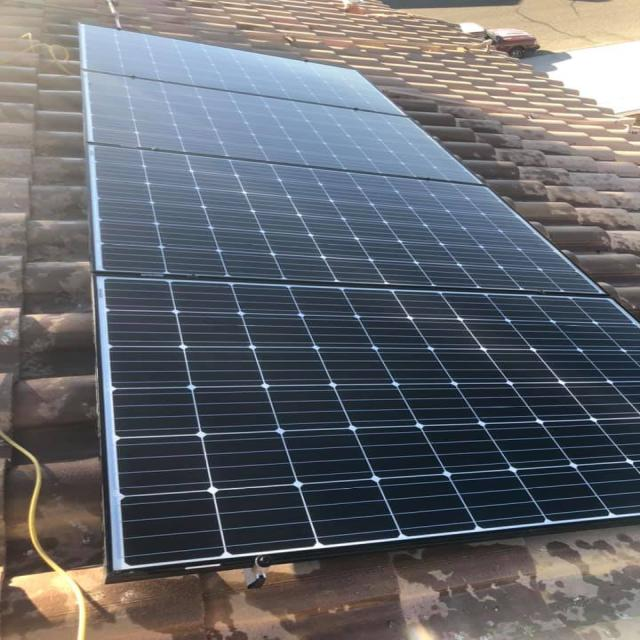clean-solar-panel: (80, 25, 638, 579)
